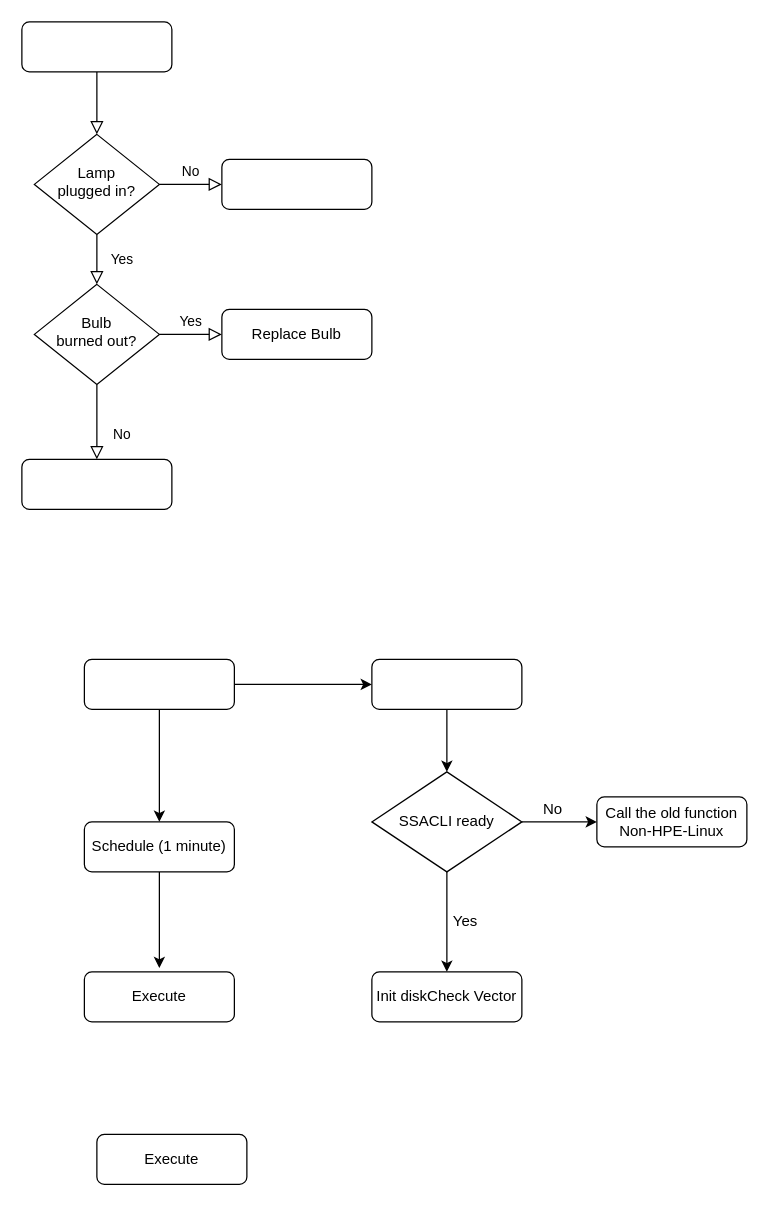
Some shapes in this 769 by 1206 pixel diagram are drawn without their labels. The shapes that lost their labels are listed below. From the top down, each one's centre as x and y in pixels, then its label:
the point at 96,46: Lamp doesn't work
the point at 296,183: Plug in lamp
the point at 96,483: Repair Lamp
the point at 158,683: CrmhMain
the point at 446,683: DiskCheck Init
